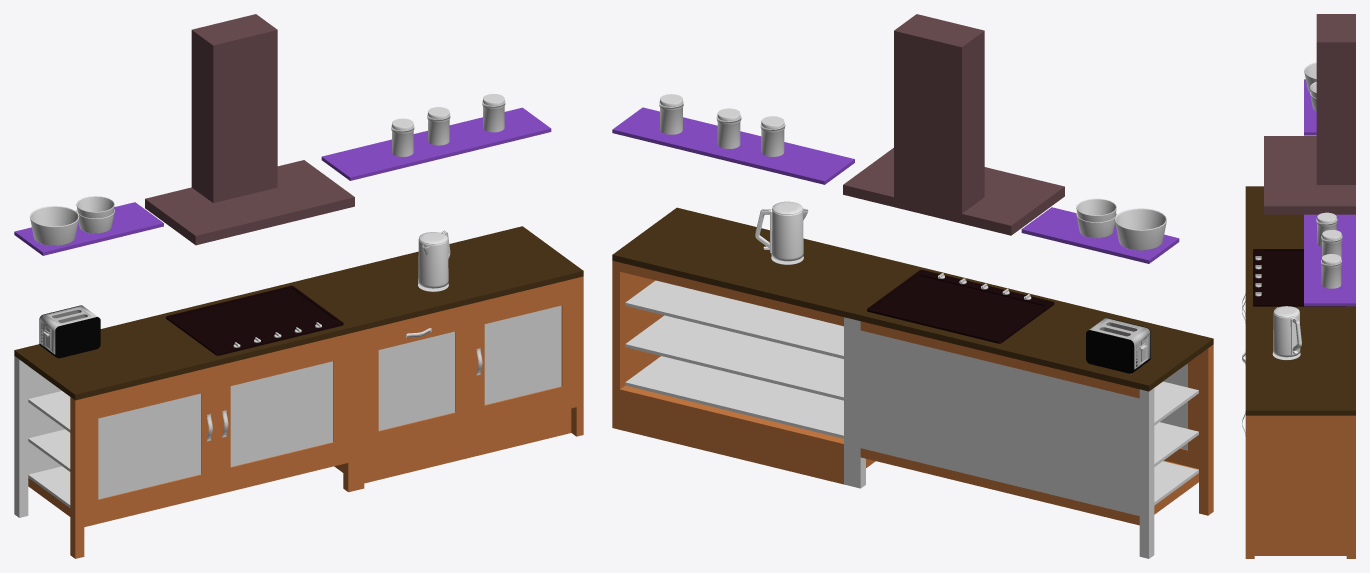
File: kit.dae
3 renders of one model, left to right at view 1: azimuth 30°, elevation 25°; view 2: azimuth 150°, elevation 25°; view 3: azimuth 270°, elevation 25°, orthographic. The views are drawn at different scales.
Parts seen in each view (by area): view 1: Group_054, Group_088, Group_066, Group_064, Group_089, Group_072, Body_001, Group_065, Group_067, Group_080, Group_078, Group_081 (+17 smaller); view 2: Group_055, Group_054, Group_077, Group_088, Group_072, Body_001, Group_089, Group_083, Group_063, Group_058, Group_097, Group_084 (+13 smaller); view 3: Group_054, Group_082, Group_088, Group_089, Group_083, Body_001, Group_072, Group_074, Group_070, Group_122, Group_084, Group_141 (+9 smaller).
Part boxes in pixels (x1=…): Group_054: x1=14, y1=226, x2=583, y2=400; Group_088: x1=191, y1=14, x2=277, y2=203; Group_066: x1=98, y1=393, x2=201, y2=499; Group_064: x1=230, y1=361, x2=333, y2=466; Group_089: x1=145, y1=160, x2=354, y2=245; Group_072: x1=334, y1=398, x2=576, y2=483; Body_001: x1=166, y1=285, x2=343, y2=355; Group_065: x1=216, y1=342, x2=348, y2=486; Group_067: x1=84, y1=375, x2=216, y2=518; Group_080: x1=378, y1=331, x2=455, y2=430; Group_078: x1=484, y1=305, x2=561, y2=404; Group_081: x1=364, y1=313, x2=470, y2=449; Group_055: x1=860, y1=330, x2=1139, y2=515; Group_054: x1=612, y1=207, x2=1213, y2=391; Group_077: x1=625, y1=280, x2=843, y2=438; Group_088: x1=894, y1=14, x2=984, y2=213; Group_072: x1=620, y1=385, x2=875, y2=484; Body_001: x1=867, y1=269, x2=1054, y2=343; Group_089: x1=843, y1=148, x2=1064, y2=235; Group_083: x1=612, y1=107, x2=854, y2=184; Group_063: x1=1154, y1=381, x2=1198, y2=505; Group_058: x1=860, y1=448, x2=1198, y2=525; Group_097: x1=1086, y1=317, x2=1150, y2=373; Group_084: x1=1021, y1=207, x2=1179, y2=263; Group_054: x1=1245, y1=186, x2=1355, y2=415; Group_082: x1=1254, y1=415, x2=1346, y2=532; Group_088: x1=1316, y1=14, x2=1355, y2=184; Group_089: x1=1264, y1=136, x2=1355, y2=214; Group_083: x1=1304, y1=214, x2=1355, y2=306; Body_001: x1=1253, y1=249, x2=1346, y2=306; Group_072: x1=1254, y1=532, x2=1346, y2=555; Group_074: x1=1346, y1=415, x2=1355, y2=558; Group_070: x1=1245, y1=415, x2=1254, y2=558; Group_122: x1=1273, y1=312, x2=1300, y2=357; Group_084: x1=1304, y1=79, x2=1316, y2=135; Group_141: x1=1321, y1=260, x2=1341, y2=288.
Bounding box in the file's own units: 2.89 × 0.6196 × 2.39.
